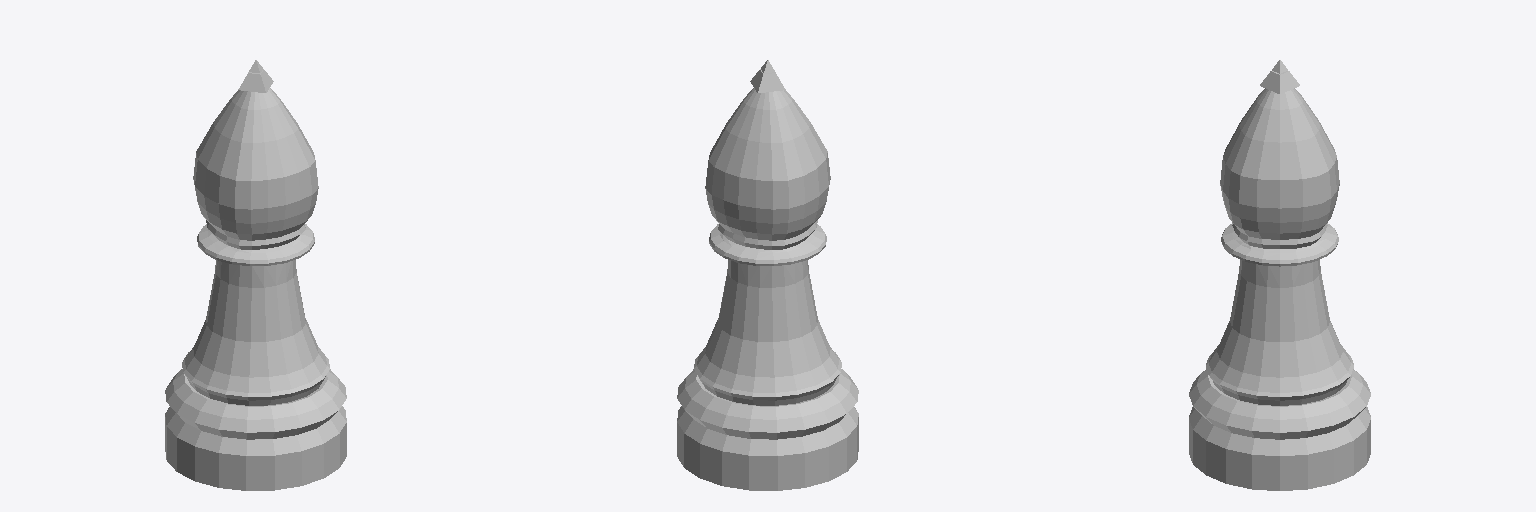
Rendered from chess_bishop.obj.
3 views of the same model, side by side, from view 1: azimuth 30°, elevation 25°; view 2: azimuth 150°, elevation 25°; view 3: azimuth 270°, elevation 25° (orthographic).
Parts seen in each view (by area): view 1: Plane.002_Plane.005; view 2: Plane.002_Plane.005; view 3: Plane.002_Plane.005.
Part boxes in pixels (left/top/right/bottom): Plane.002_Plane.005: left=165, top=60, right=346, bottom=490; Plane.002_Plane.005: left=677, top=60, right=858, bottom=490; Plane.002_Plane.005: left=1189, top=60, right=1370, bottom=490.
Bounding box in the file's own units: 1.13 × 2.69 × 1.13.